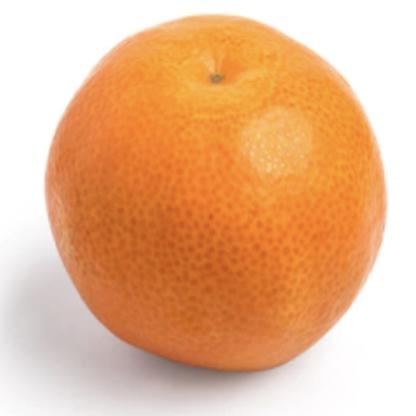fresh: (44, 13, 386, 374)
